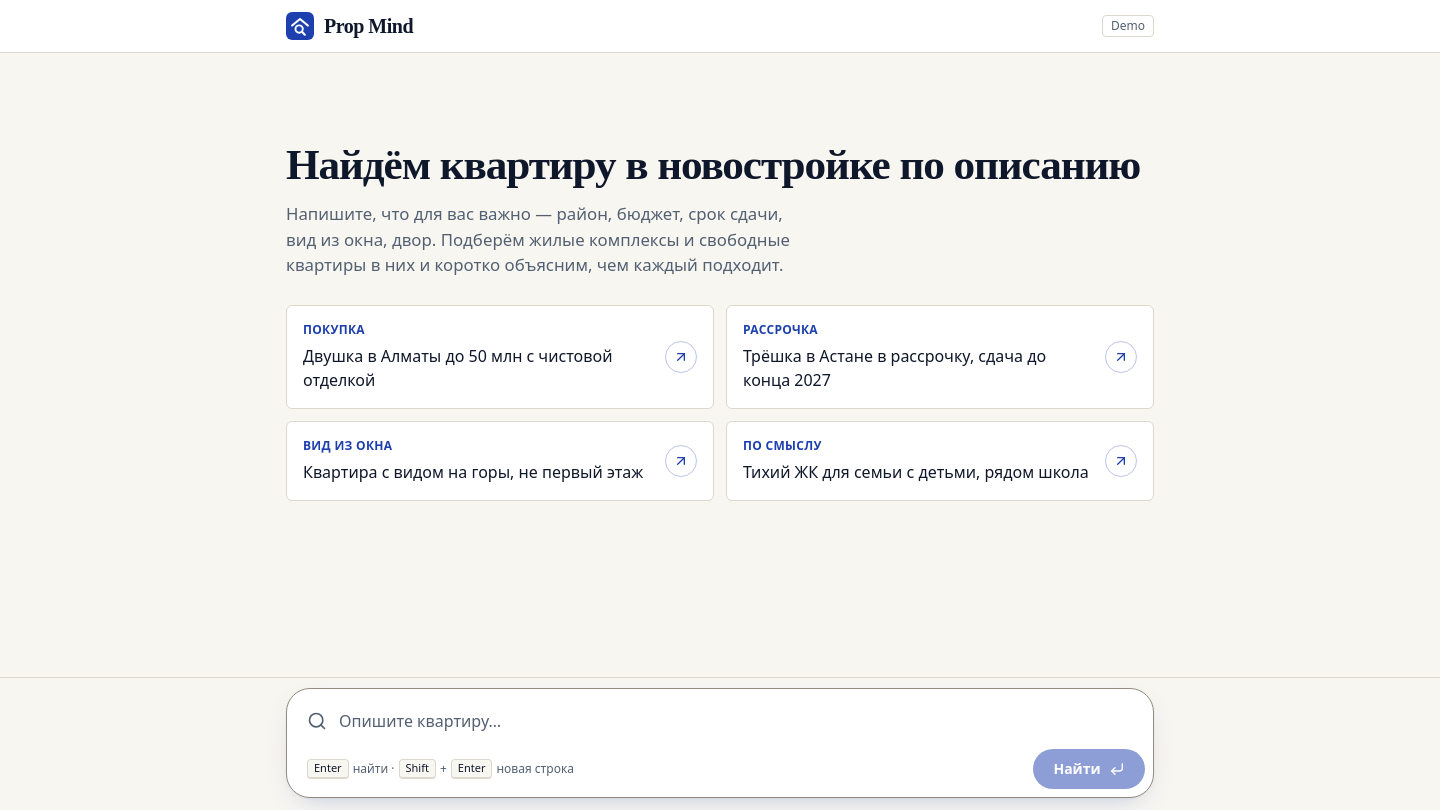
Test: clarification is shown as the assistant's question
In the text box named "Запрос": (736, 721) 339,701 -> 1133,741, type "у метро в Астане"
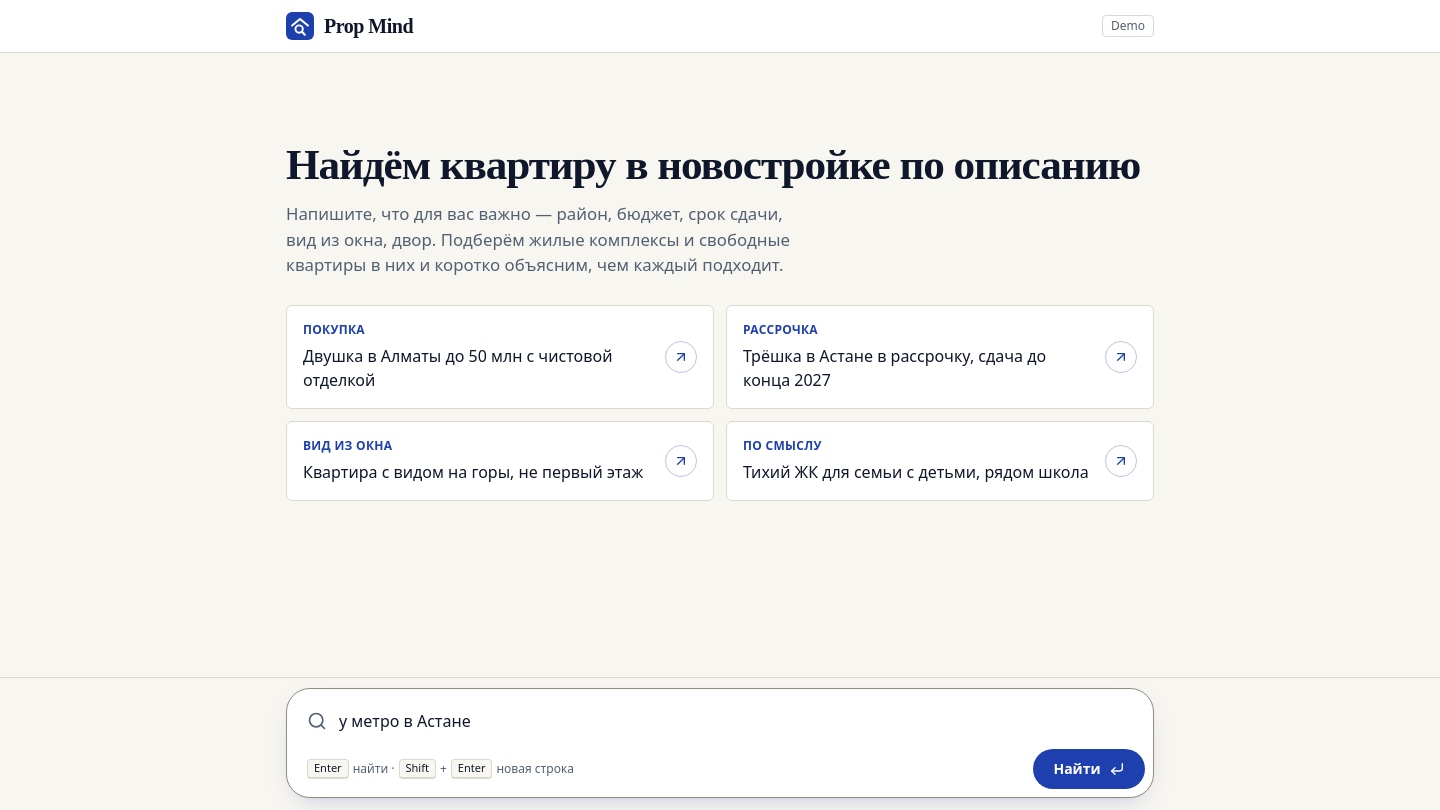
Press Enter in the text box named "Запрос", box 339,701 -> 1133,741
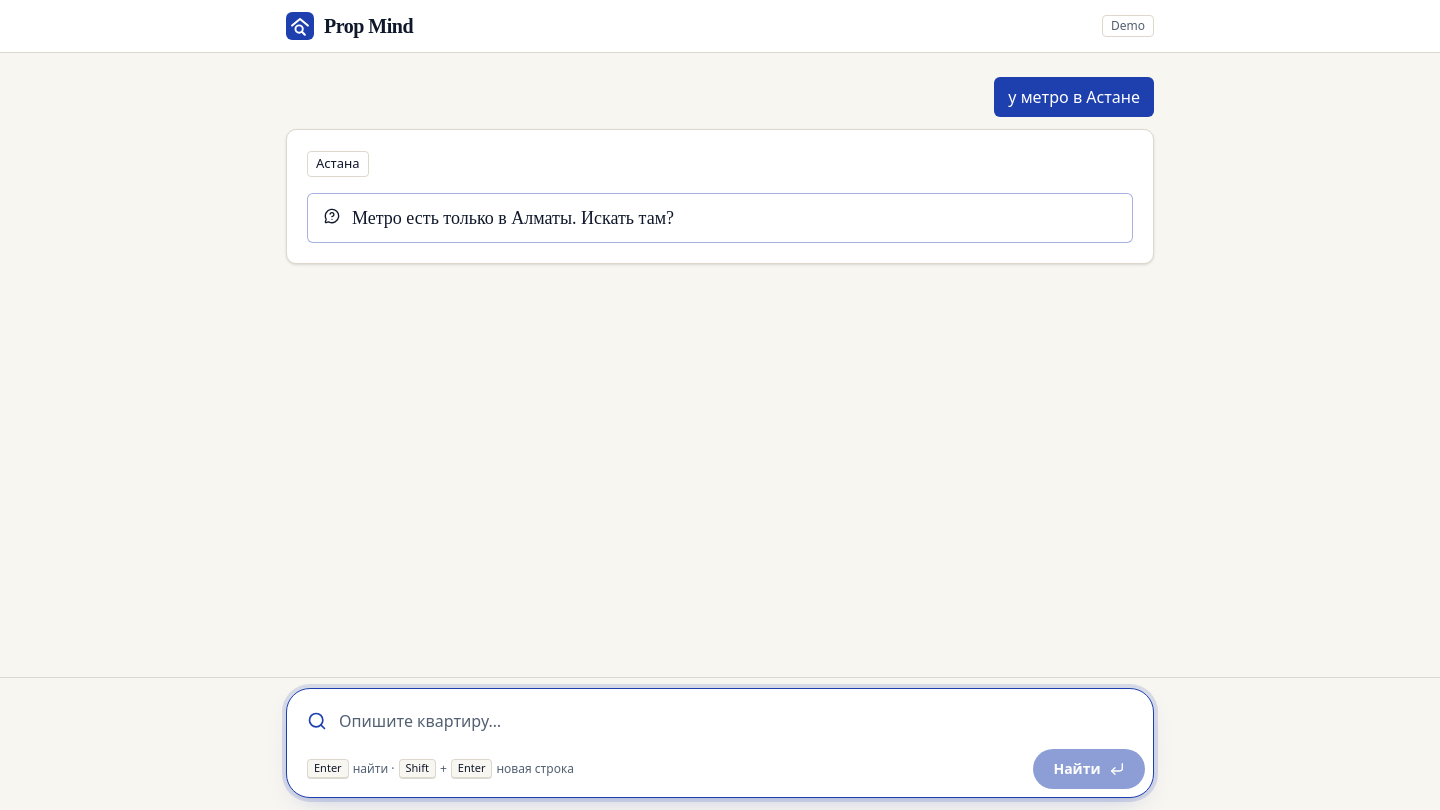
Check: the message reads "Метро есть только в Алматы. Искать там?", box 352,208 -> 674,228
